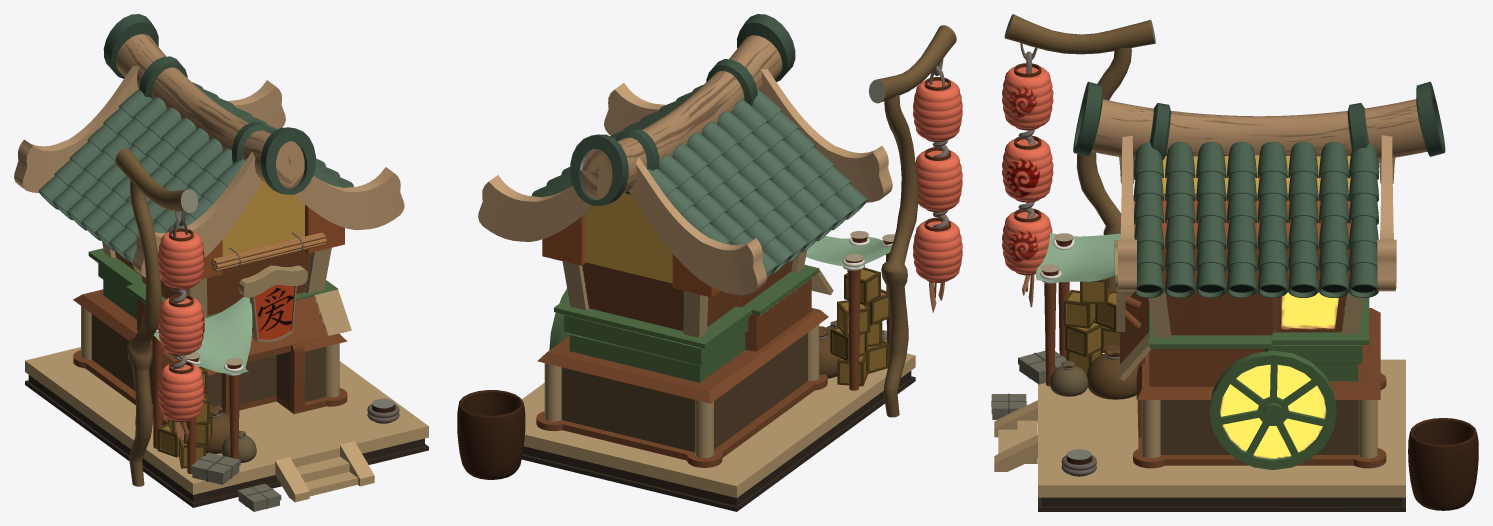
The model's file is chinese_house.glb.
The picture shows the model from 3 angles, left to right: view 1: azimuth 30°, elevation 25°; view 2: azimuth 150°, elevation 25°; view 3: azimuth 270°, elevation 25°; orthographic projection. The views are drawn at different scales.
Parts seen in each view (by area): view 1: Piso_arriba, Tronco, Casa_Abajo, Palo_largo, Parante_Techo, Cas_Arriba, Techo_Medio, Parante_Techo2, Parante_Techo1, Toldo, Techito, Casa_media (+42 smaller); view 2: Casa_Abajo, Piso_arriba, Casa_media, Tronco, Cas_Arriba, Parante_Techo2, No_se_como_ponerle, Palo_largo, Barril, Techo_Medio, Parante_Techo3, Parante_Techo1 (+25 smaller); view 3: Piso_arriba, Tronco, Atras_Rueda, Casa_media, Cas_Arriba, Casa_Abajo, Barril, Piso_medio, No_se_como_ponerle, Palo_arrriba, Toldo, object 27 (+72 smaller).
Boxes of the visible parts, bbox=[...] form: Piso_arriba: bbox=[25, 347, 428, 494]; Tronco: bbox=[103, 14, 315, 194]; Casa_Abajo: bbox=[85, 314, 326, 425]; Palo_largo: bbox=[127, 180, 162, 486]; Parante_Techo: bbox=[294, 167, 404, 230]; Cas_Arriba: bbox=[102, 241, 331, 318]; Techo_Medio: bbox=[222, 181, 304, 256]; Parante_Techo2: bbox=[14, 66, 138, 192]; Parante_Techo1: bbox=[132, 151, 262, 279]; Toldo: bbox=[154, 296, 252, 373]; Techito: bbox=[248, 289, 351, 355]; Casa_media: bbox=[88, 248, 337, 360]; Casa_Abajo: bbox=[561, 332, 814, 460]; Piso_arriba: bbox=[522, 353, 915, 497]; Casa_media: bbox=[554, 265, 819, 382]; Tronco: bbox=[570, 14, 795, 205]; Cas_Arriba: bbox=[562, 250, 806, 337]; Parante_Techo2: bbox=[629, 157, 766, 294]; No_se_como_ponerle: bbox=[537, 308, 828, 403]; Palo_largo: bbox=[881, 94, 918, 417]; Barril: bbox=[457, 390, 525, 479]; Techo_Medio: bbox=[584, 192, 672, 283]; Parante_Techo3: bbox=[478, 175, 593, 241]; Parante_Techo1: bbox=[760, 69, 892, 202]; Piso_arriba: bbox=[1038, 359, 1405, 497]; Tronco: bbox=[1073, 81, 1445, 160]; Atras_Rueda: bbox=[1209, 350, 1336, 469]; Casa_media: bbox=[1149, 297, 1369, 386]; Cas_Arriba: bbox=[1148, 292, 1363, 337]; Casa_Abajo: bbox=[1137, 357, 1358, 465]; Barril: bbox=[1408, 418, 1478, 510]; Piso_medio: bbox=[1042, 497, 1402, 506]; No_se_como_ponerle: bbox=[1136, 308, 1380, 399]; Palo_arrriba: bbox=[1004, 14, 1155, 54]; Toldo: bbox=[1036, 233, 1120, 281]; object 27: bbox=[1221, 364, 1324, 456].
Bounding box in the file's own units: 7.74 × 8.68 × 10.48.
Materials: 3 (3 with a texture image).
